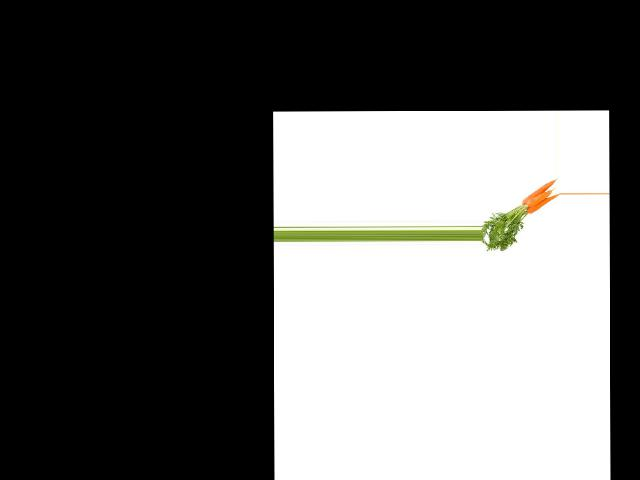carrot: (527, 193, 558, 214)
